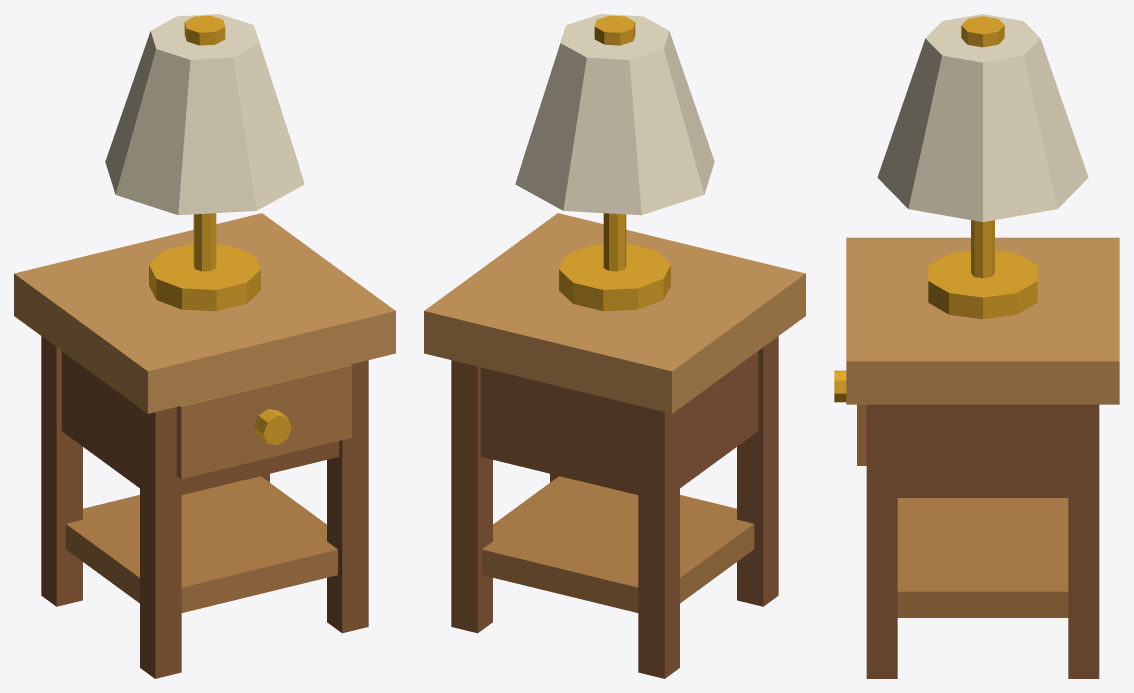
Rendered from bed__bedside_table.glb.
3 renders of one model, left to right at view 1: azimuth 30°, elevation 25°; view 2: azimuth 150°, elevation 25°; view 3: azimuth 270°, elevation 25°, orthographic. The views are drawn at different scales.
Parts seen in each view (by area): view 1: bedside_table__wood3.001, bedside_table__wood.001, bedside_table__wood2.001, bedside_table__cream.001, bedside_table__yellow.001; view 2: bedside_table__wood.001, bedside_table__wood3.001, bedside_table__cream.001, bedside_table__wood2.001, bedside_table__yellow.001; view 3: bedside_table__wood3.001, bedside_table__wood.001, bedside_table__cream.001, bedside_table__wood2.001, bedside_table__yellow.001.
Boxes of the visible parts, x1,y1,x2,y2 form: bedside_table__wood3.001: [14, 213, 395, 413]; bedside_table__wood.001: [41, 336, 368, 678]; bedside_table__wood2.001: [65, 364, 351, 612]; bedside_table__cream.001: [105, 14, 304, 215]; bedside_table__yellow.001: [149, 15, 291, 445]; bedside_table__wood.001: [451, 336, 778, 678]; bedside_table__wood3.001: [424, 213, 805, 413]; bedside_table__cream.001: [515, 14, 714, 215]; bedside_table__wood2.001: [482, 476, 754, 612]; bedside_table__yellow.001: [559, 15, 670, 311]; bedside_table__wood3.001: [846, 237, 1119, 404]; bedside_table__wood.001: [866, 404, 1099, 678]; bedside_table__cream.001: [877, 14, 1088, 221]; bedside_table__wood2.001: [857, 404, 1068, 617]; bedside_table__yellow.001: [834, 16, 1037, 402].
Bounding box in the file's own units: 0.61 × 1.38 × 0.595.
